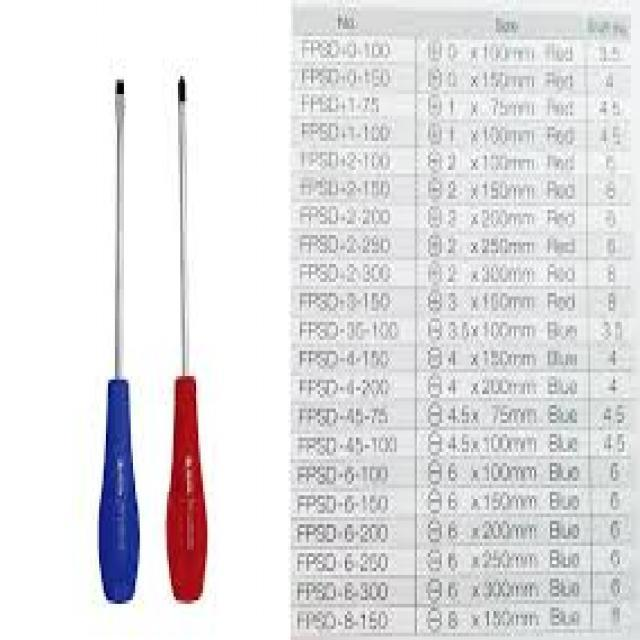screwdriver: (163, 70, 211, 610), (96, 78, 141, 606)
